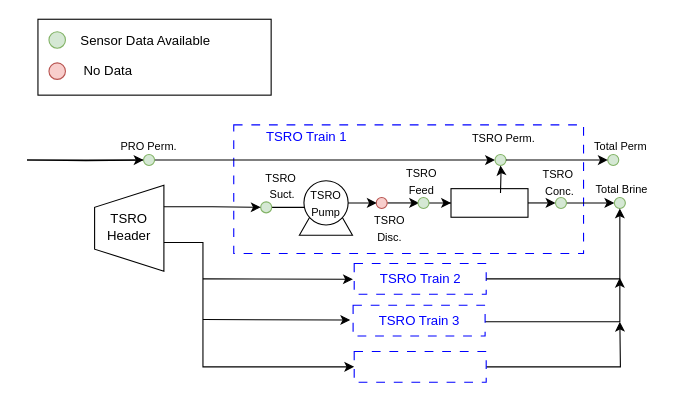
Some shapes in this 677 by 402 pixel diagram are drawn without their labels. The box of each missing label's shape, as (x1, y1, x2, y2) in pixels:
TSRO: (450, 188, 528, 217)
TSRO Train 4: (353, 350, 486, 382)
